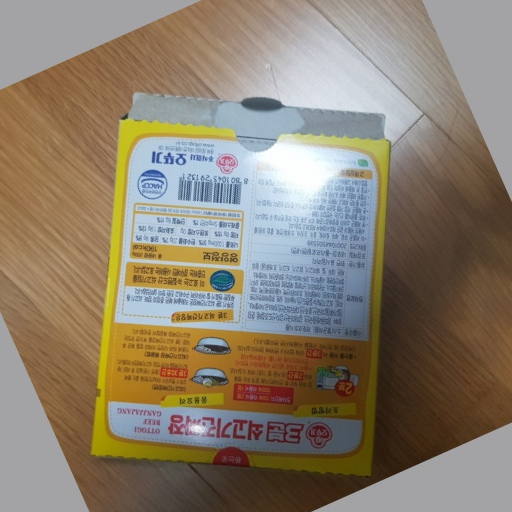Paper_0: (86, 84, 393, 483)
